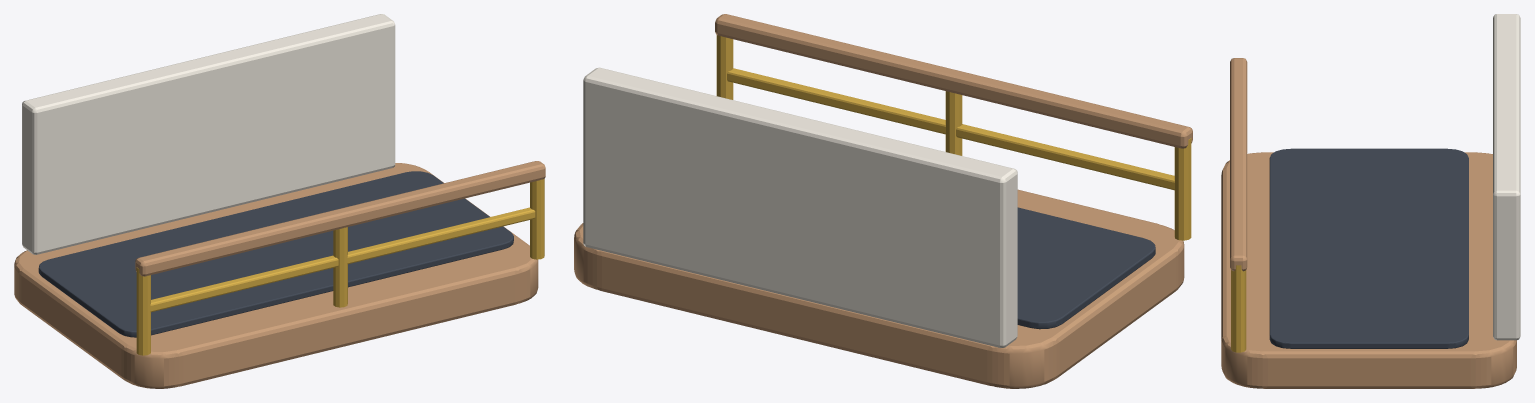
Rendered from WallHabitat_HallwaySegment.fbx.
3 views of the same model, side by side, from view 1: azimuth 30°, elevation 25°; view 2: azimuth 150°, elevation 25°; view 3: azimuth 270°, elevation 25° (orthographic). The views are drawn at different scales.
Parts seen in each view (by area): view 1: WallHabitat_HallwaySegment_Mesh; view 2: WallHabitat_HallwaySegment_Mesh; view 3: WallHabitat_HallwaySegment_Mesh.
Part boxes in pixels (x1,y1,x2,y2): WallHabitat_HallwaySegment_Mesh: (14, 14, 545, 388); WallHabitat_HallwaySegment_Mesh: (574, 14, 1192, 388); WallHabitat_HallwaySegment_Mesh: (1221, 14, 1520, 388).
Bounding box in the file's own units: 14 × 6 × 8.7.
